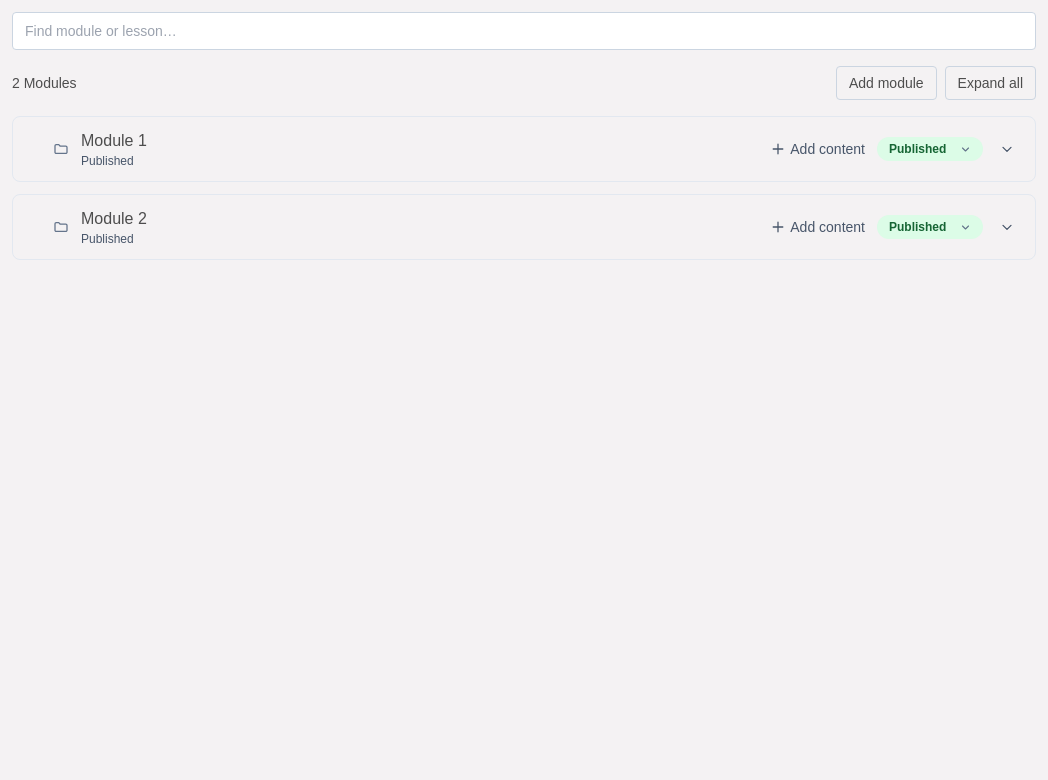
Scenario: an editable outline › enables the controls an imported course has off, status menus included
Click the button "Expand all".
click(990, 83)  # box [945,66,1036,100]
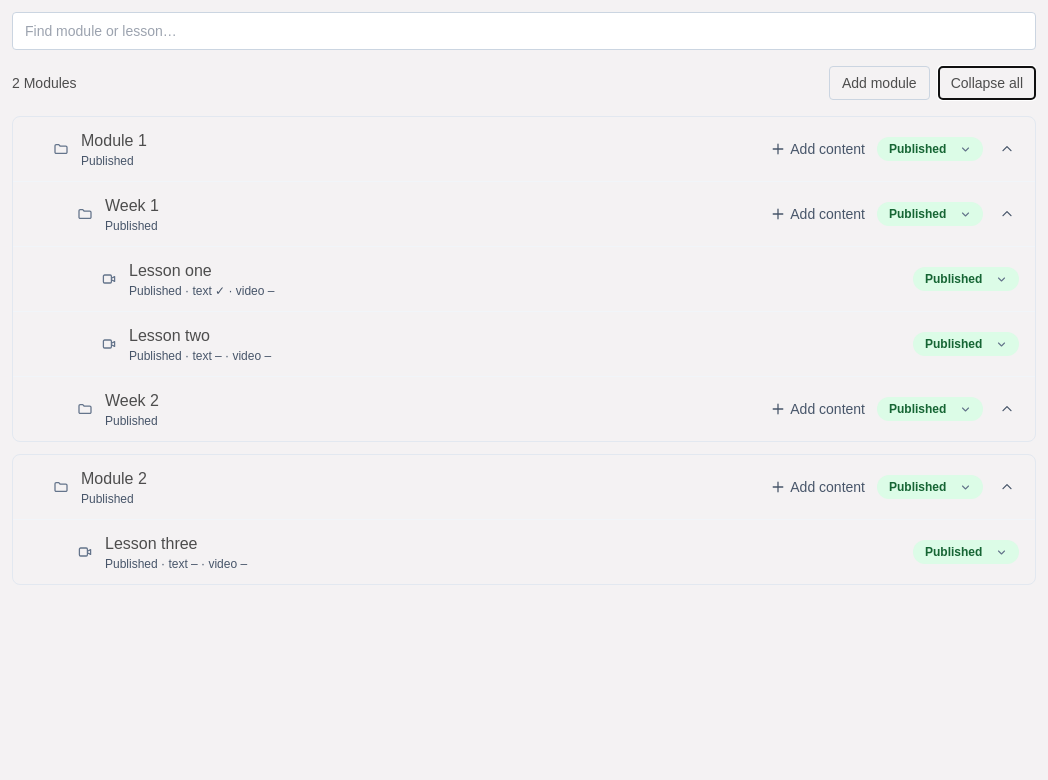
Now the dropdown named "Status of Week 1" is enabled, box [877,202,983,226]
Now the dropdown named "Status of Lesson one" is enabled, box [913,267,1019,291]
Now the dropdown named "Status of Lesson two" is enabled, box [913,332,1019,356]
